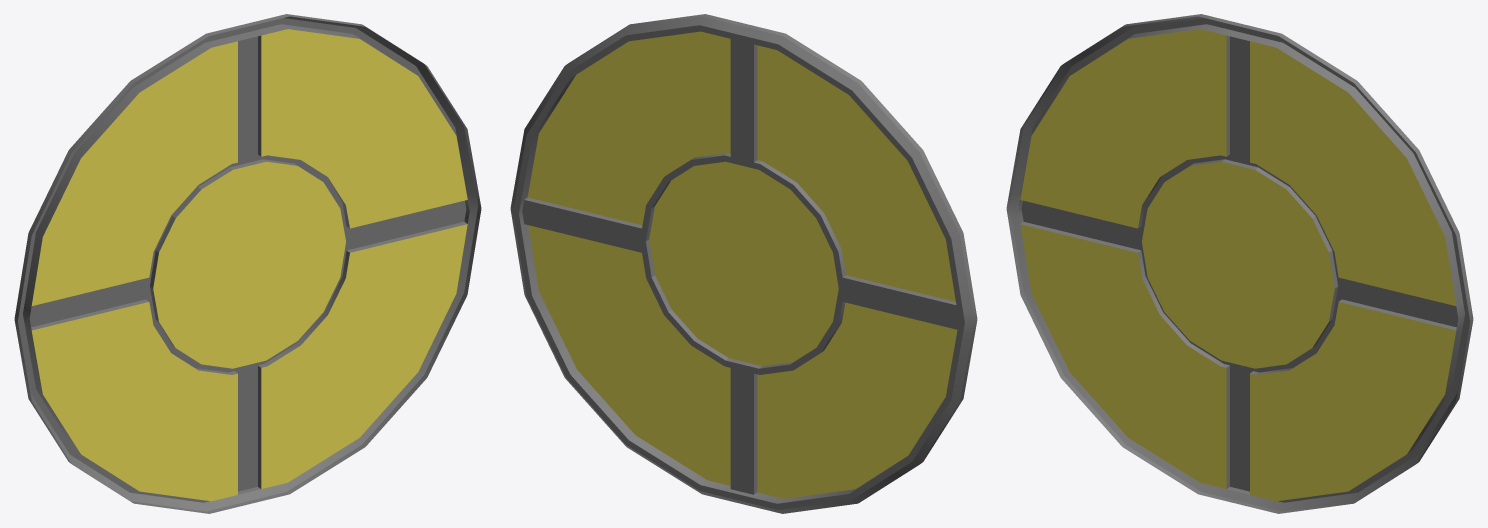
Rendered from GiantWindow.fbx.
3 views of the same model, side by side, from view 1: azimuth 30°, elevation 25°; view 2: azimuth 150°, elevation 25°; view 3: azimuth 330°, elevation 25° (orthographic).
Visible parts, largest first — view 1: GiantWindow; view 2: GiantWindow; view 3: GiantWindow.
Boxes of the visible parts, bbox=[...] form: GiantWindow: bbox=[14, 14, 481, 513]; GiantWindow: bbox=[510, 14, 977, 513]; GiantWindow: bbox=[1006, 14, 1473, 513].
Size of the model in its own units: 16 by 15.76 by 0.4.
